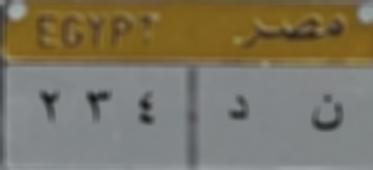2: (35, 81, 66, 128)
3: (84, 80, 114, 130)
4: (128, 84, 162, 136)
daal: (225, 90, 255, 126)
noon: (304, 88, 348, 141)
